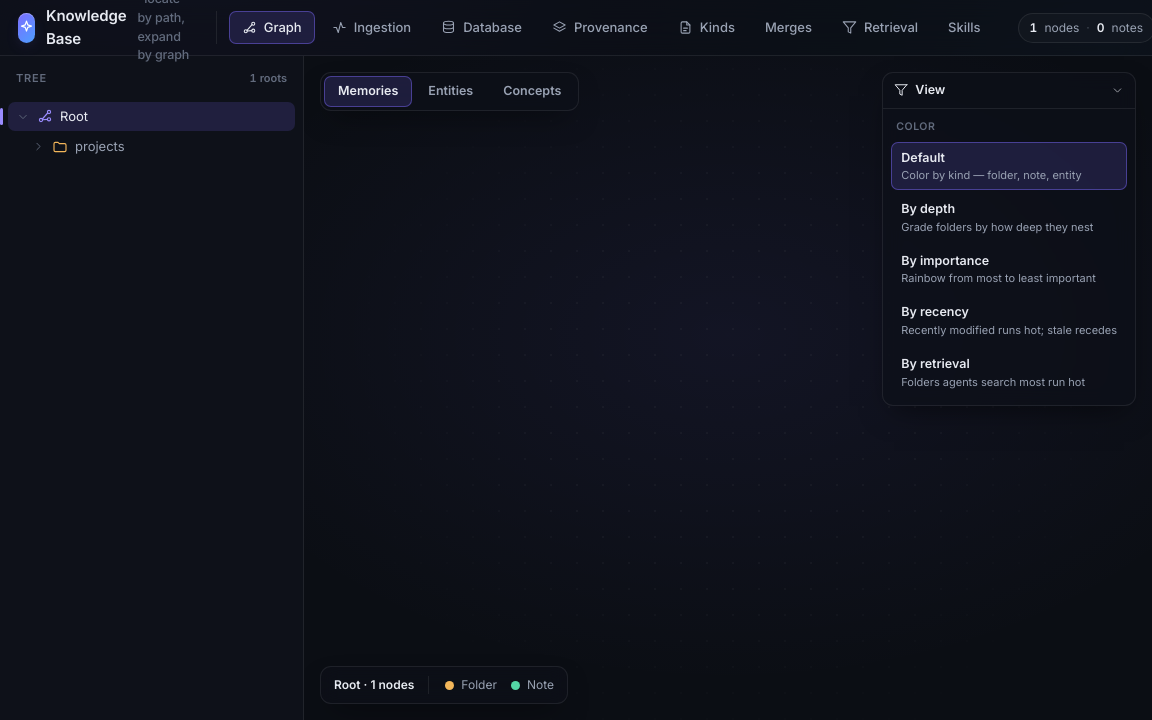
Test: App › reports a concepts load failure and retries
Step 1. Click the button "Concepts" → (532, 91), box x1=489 y1=76 x2=575 y2=107
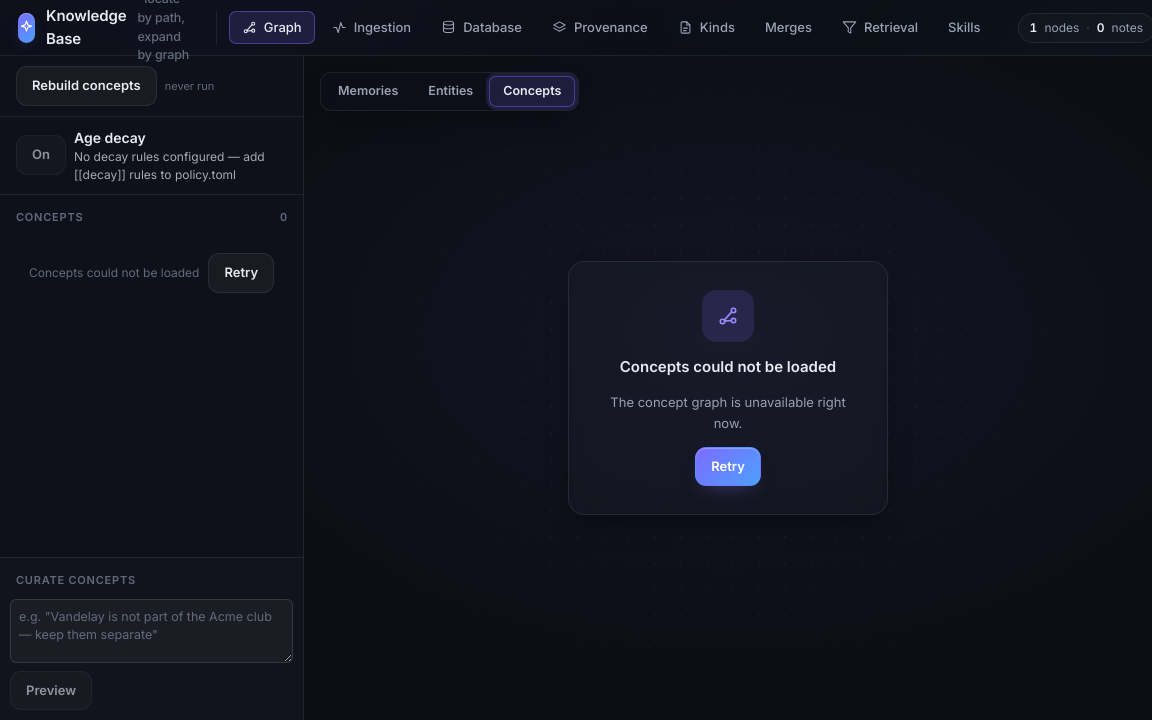
Check: the text "Concepts could not be loaded" below "Age decay" is shown, box x1=29 y1=265 x2=199 y2=280
Step 2. Click the button "Retry" below "Age decay" → (241, 273), box x1=208 y1=253 x2=274 y2=293
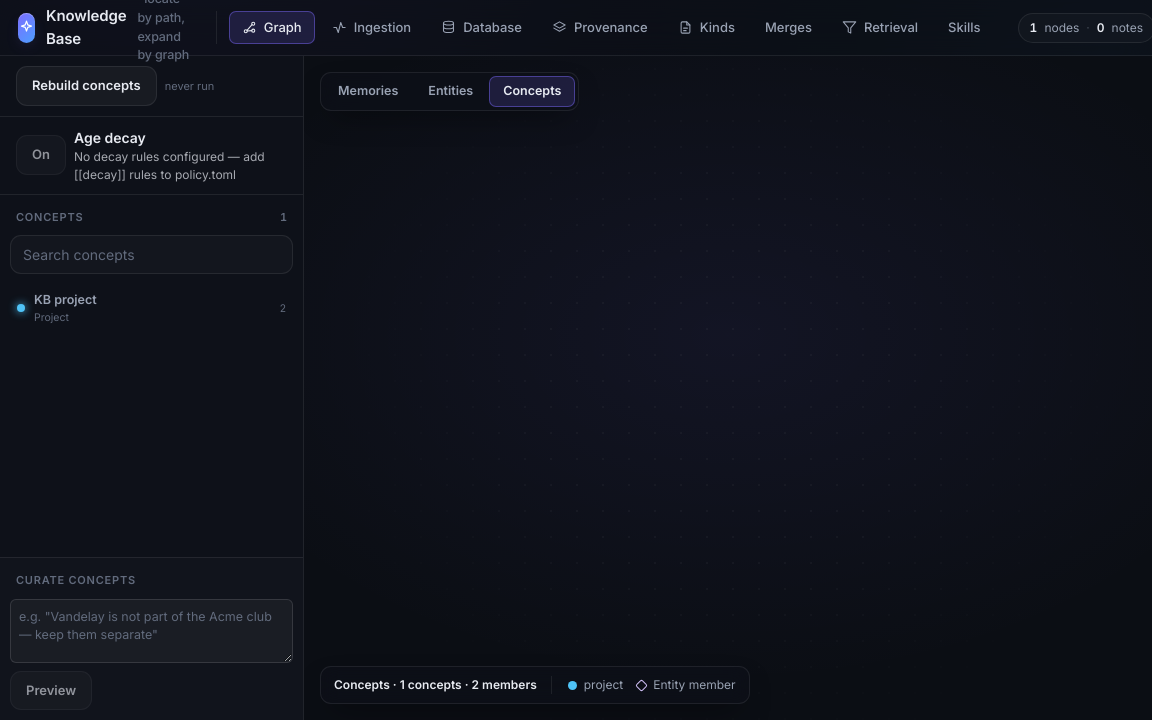
Check: the text "KB project" is shown, box x1=34 y1=292 x2=97 y2=307
